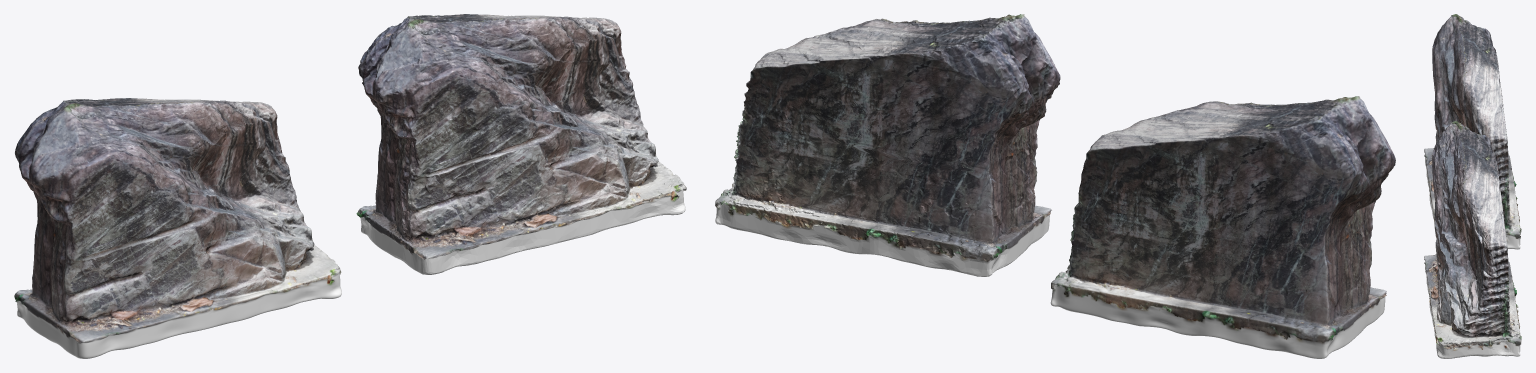
The picture shows the model from 3 angles, left to right: view 1: azimuth 30°, elevation 25°; view 2: azimuth 150°, elevation 25°; view 3: azimuth 270°, elevation 25°; orthographic projection. The views are drawn at different scales.
Visible parts, largest first — view 1: Object_4, Object_3, Object_2; view 2: Object_4, Object_2, Object_3; view 3: Object_3, Object_2, Object_4.
Part boxes in pixels (x1,y1,x2,y2): Object_4: [14, 98, 341, 358]; Object_3: [357, 14, 686, 274]; Object_2: [356, 14, 686, 274]; Object_4: [1050, 96, 1395, 358]; Object_2: [715, 14, 1060, 276]; Object_3: [715, 14, 1059, 276]; Object_3: [1424, 121, 1521, 358]; Object_2: [1424, 121, 1521, 358]; Object_4: [1424, 14, 1521, 249].
Size of the model in its own units: 29.52 by 10.61 by 6.04.
2 materials, 2 textured.
